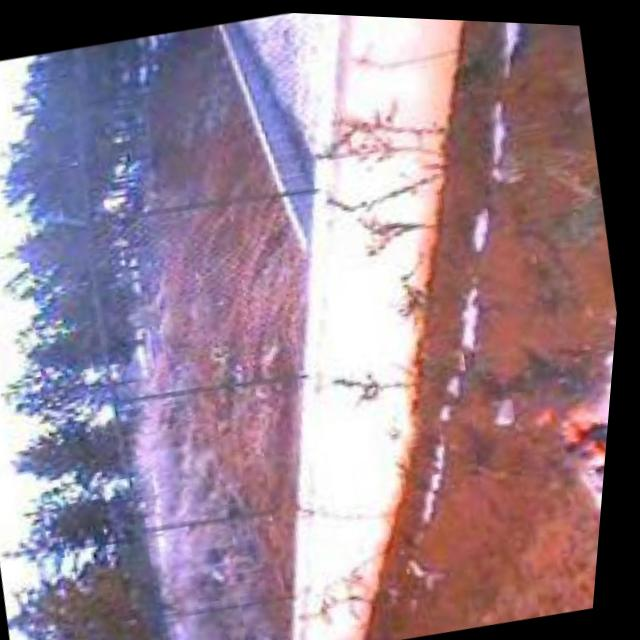Fire: (529, 382, 617, 494)
